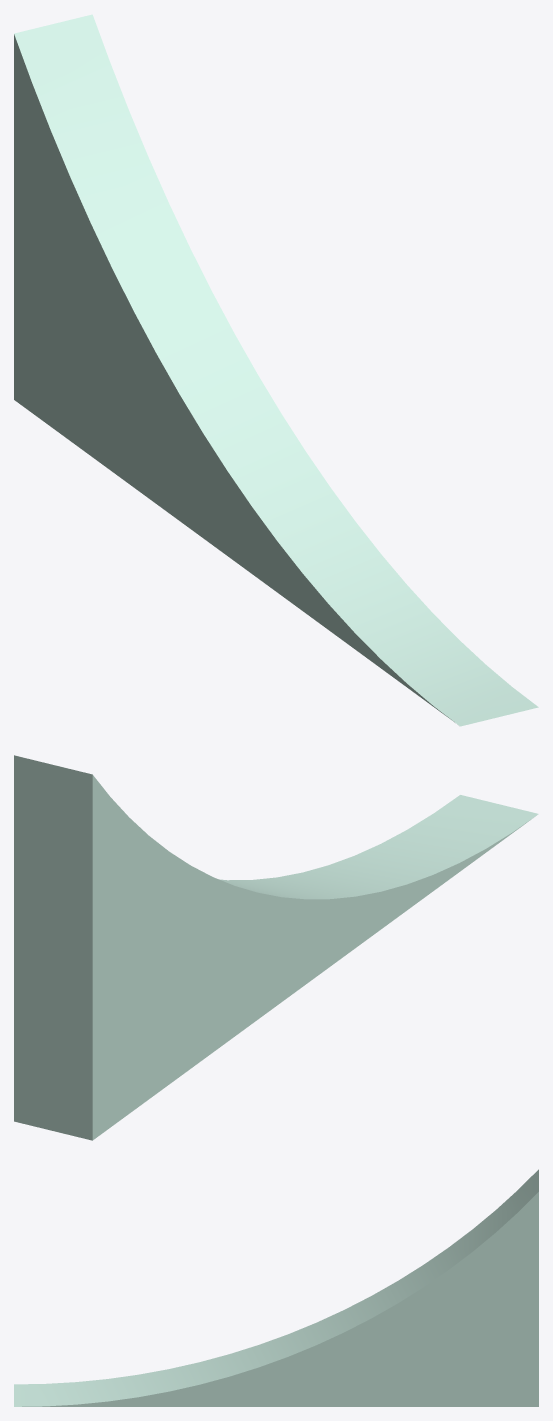
The picture shows the model from 3 angles, top to bottom: view 1: azimuth 30°, elevation 25°; view 2: azimuth 150°, elevation 25°; view 3: azimuth 270°, elevation 25°; orthographic projection. The views are drawn at different scales.
Parts seen in each view (by area): view 1: Renderer Node; view 2: Renderer Node; view 3: Renderer Node.
Part boxes in pixels (box(x1,y1,x2,y2)): Renderer Node: box(14, 14, 538, 726); Renderer Node: box(14, 755, 538, 1140); Renderer Node: box(14, 1169, 538, 1406).
Size of the model in its own units: 0.1406 by 0.6259 by 1.38.
